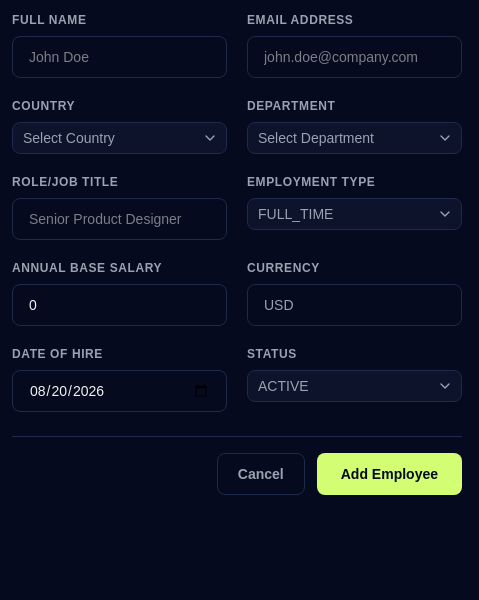
Test: EmployeeForm Component › displays validation errors on empty submission
Click the button "Add Employee" at (389, 474), box left=317, top=453, right=462, bottom=495
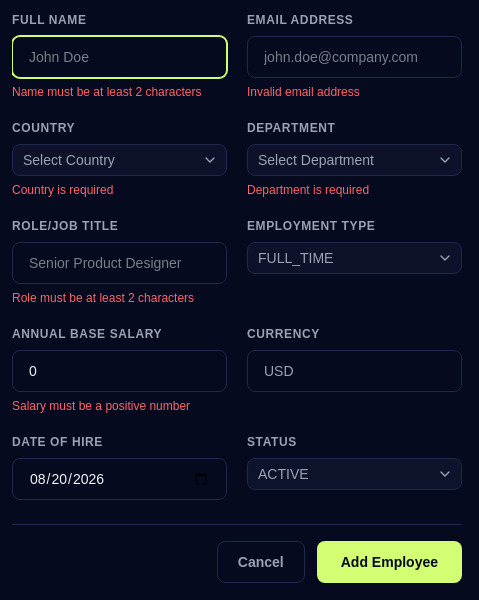
Expected: the text "Name must be at least 2 characters" is shown, left=12, top=84, right=227, bottom=100
Expected: the text "Invalid email address" is shown, left=247, top=85, right=360, bottom=99
